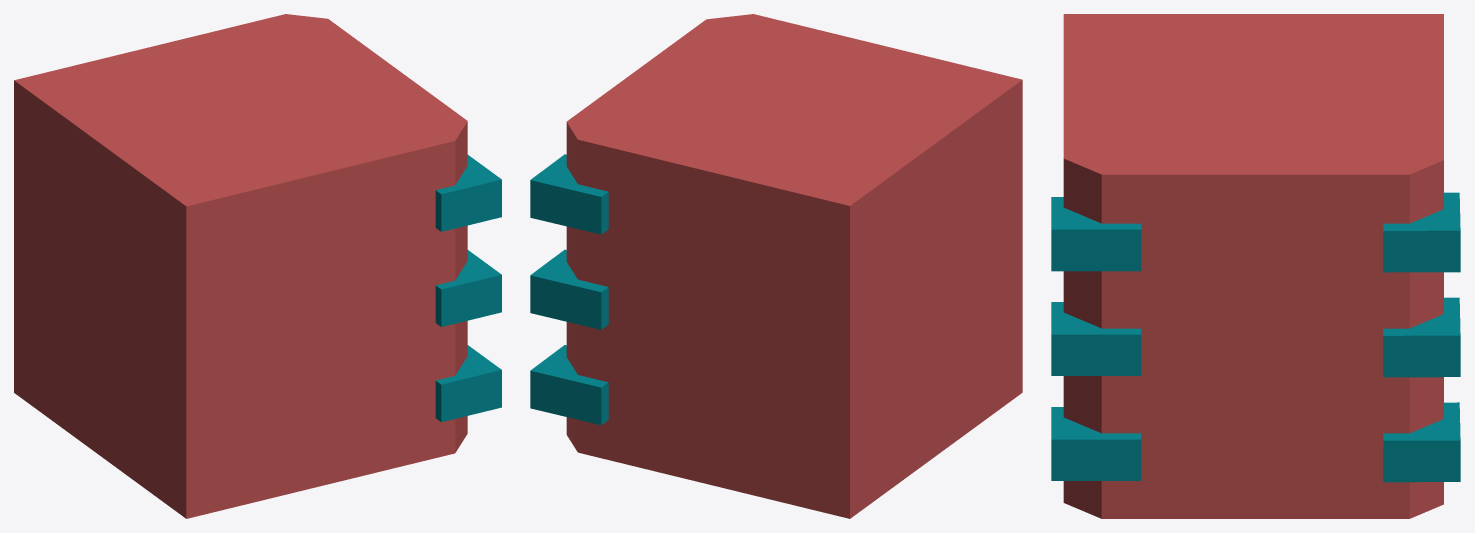
The model's file is Left Connect BlueGreen.fbx.
3 views of the same model, side by side, from view 1: azimuth 30°, elevation 25°; view 2: azimuth 150°, elevation 25°; view 3: azimuth 270°, elevation 25° (orthographic). The views are drawn at different scales.
Visible parts, largest first — view 1: pCube10; view 2: pCube10; view 3: pCube10.
Boxes of the visible parts, bbox=[...] form: pCube10: bbox=[14, 14, 501, 518]; pCube10: bbox=[530, 14, 1022, 518]; pCube10: bbox=[1051, 14, 1460, 518].
Bounding box in the file's own units: 2.09 × 2 × 2.15.
